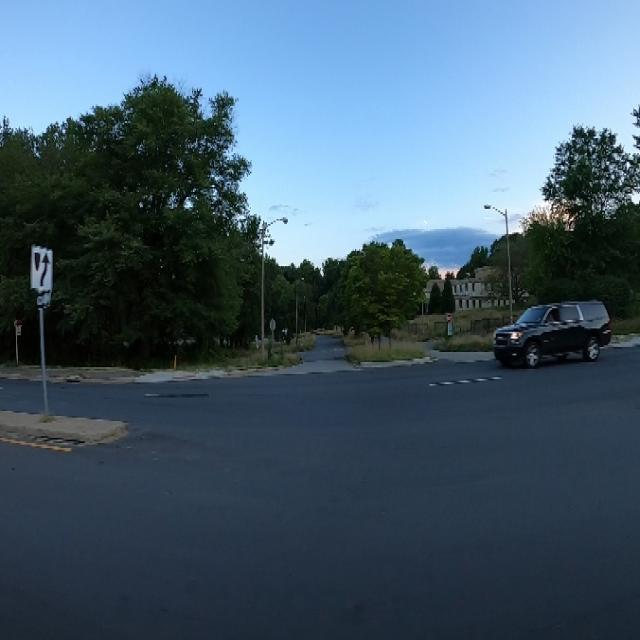cars: (483, 294, 611, 379)
